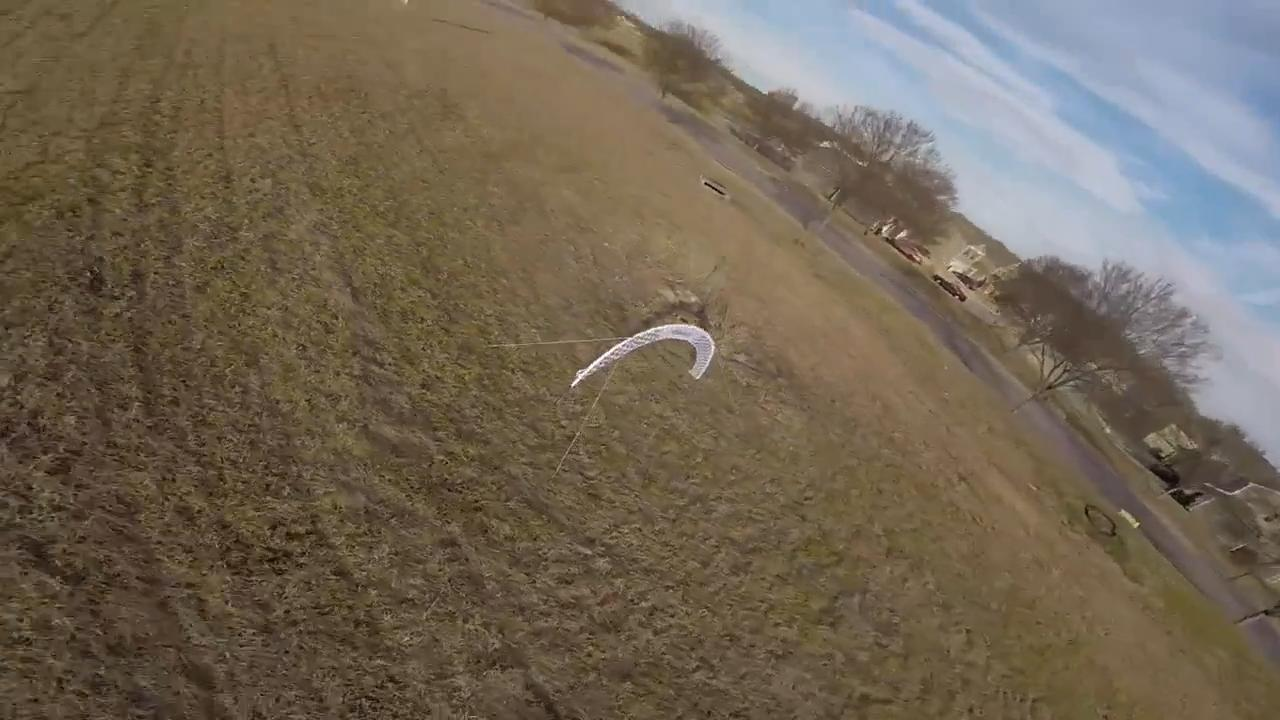gate: (571, 320, 716, 389)
